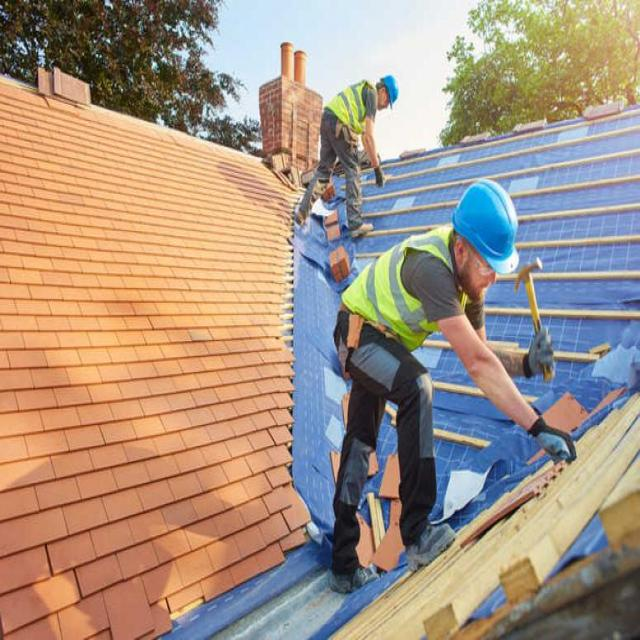Reflective-Jacket: (339, 219, 455, 357), (324, 73, 378, 135)
Safety-Helmet: (452, 172, 520, 276), (378, 69, 402, 110)
